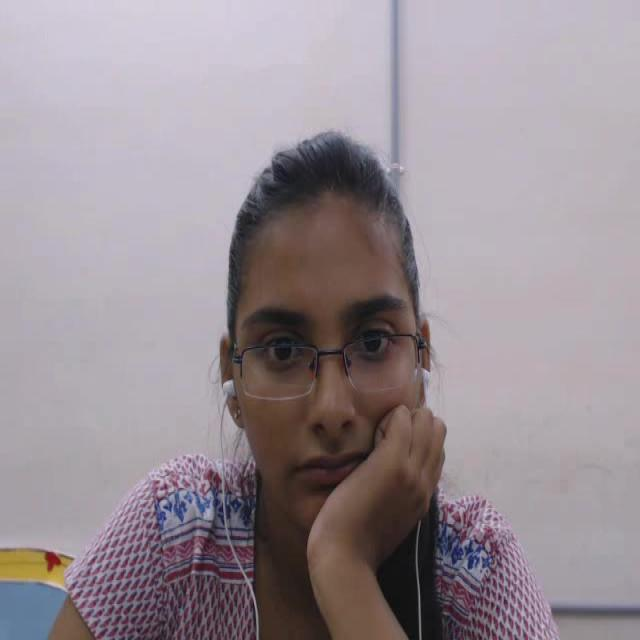Bored: (184, 101, 461, 560)
